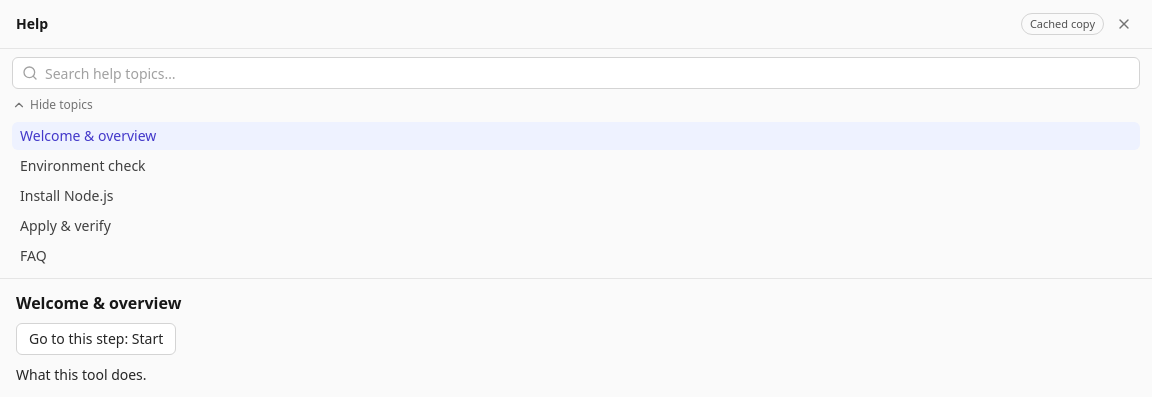
Test case: HelpPanel › filters the topic tree by title and loaded page text
Type "node" into the search field labelled "Search help topics" at (576, 73), box [12,57,1140,89]
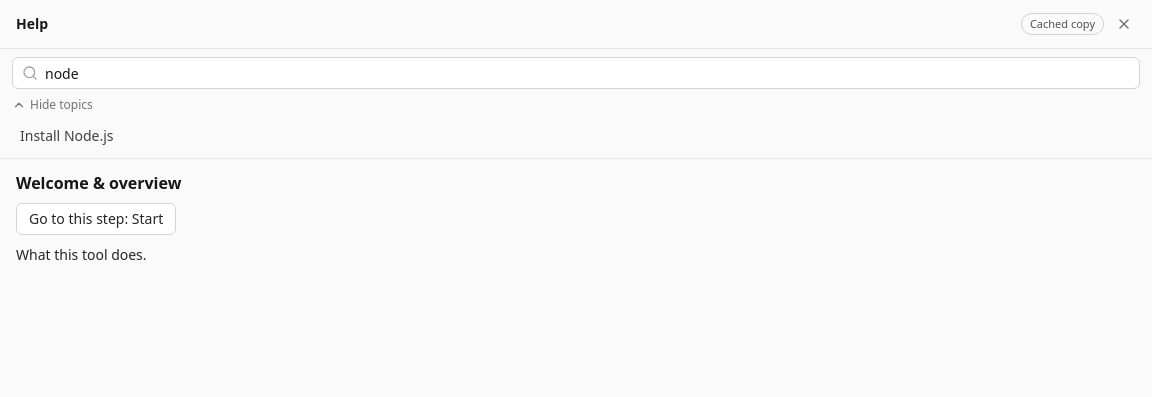
Result: the buttons read "Install Node.js", in this order at [12,122,1140,150]
// page text of the loaded overview page is searchable too
Replace the text in the search field named "Search help topics" with "what this tool" at (576, 73), box [12,57,1140,89]
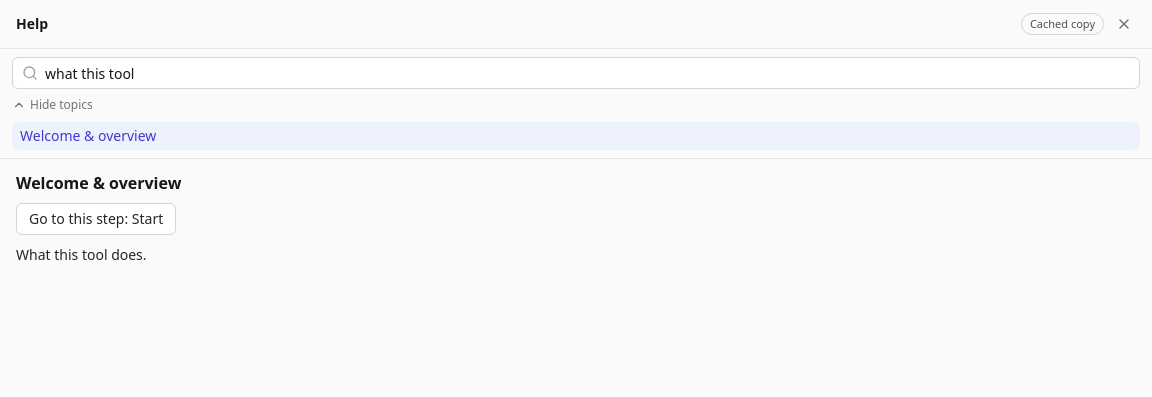
Result: the buttons read "Welcome & overview", in this order at [12,122,1140,150]
Replace the text in the search field named "Search help topics" with "zzz" at (576, 73), box [12,57,1140,89]
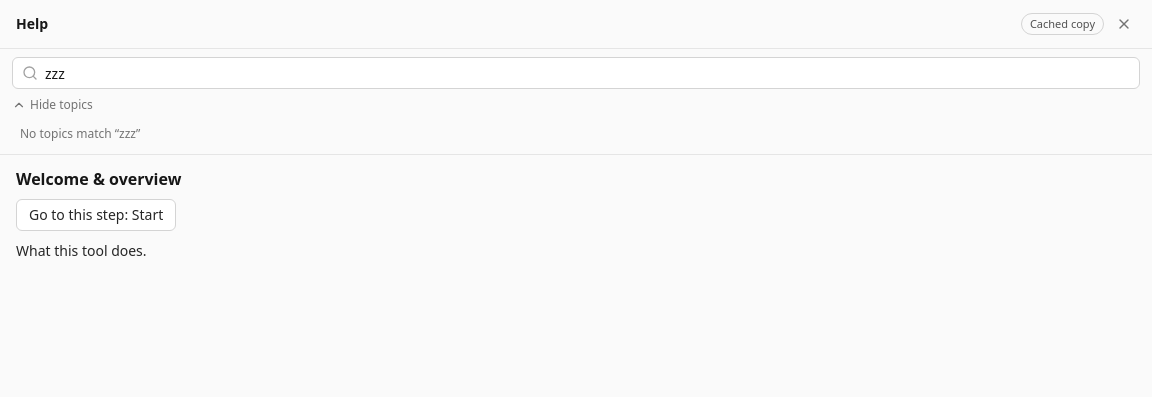
Result: the text "No topics match “zzz”" is shown at [20,125,140,142]
